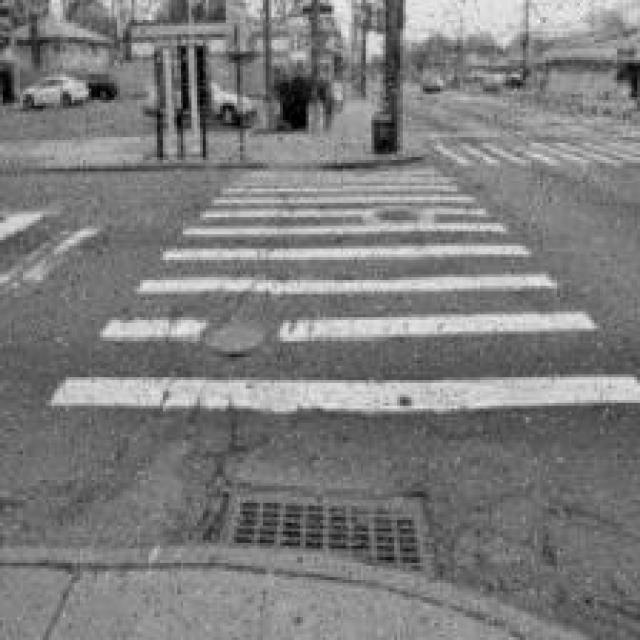walk-crossing: (40, 160, 637, 417), (420, 131, 634, 169)
